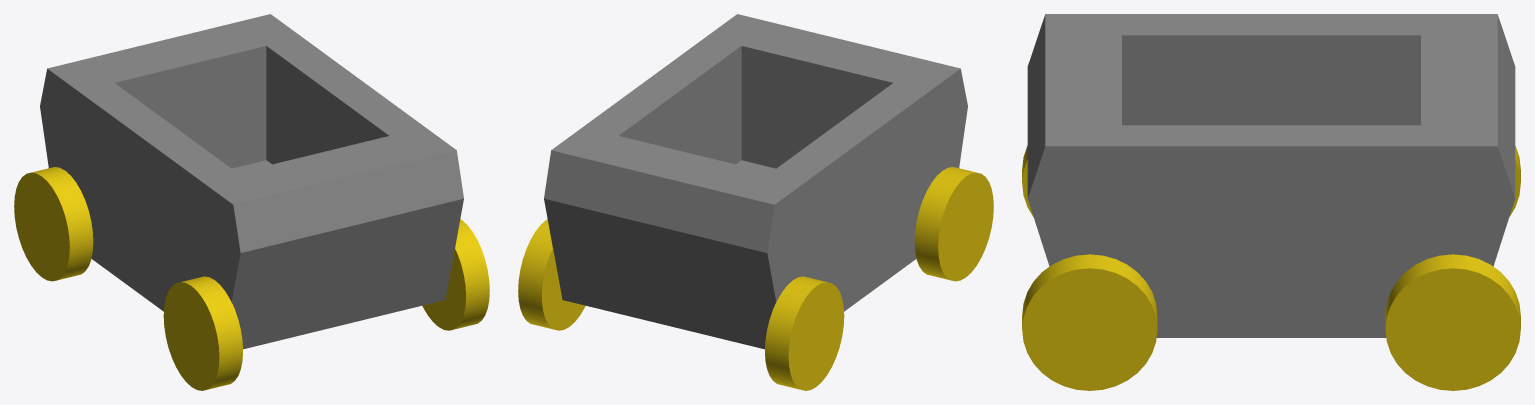
Rendered from Cart.fbx.
3 renders of one model, left to right at view 1: azimuth 30°, elevation 25°; view 2: azimuth 150°, elevation 25°; view 3: azimuth 270°, elevation 25°, orthographic. The views are drawn at different scales.
Visible parts, largest first — view 1: Cart; view 2: Cart; view 3: Cart.
Part boxes in pixels (left/top/right/bottom): Cart: left=14, top=14, right=489, bottom=390; Cart: left=518, top=14, right=993, bottom=390; Cart: left=1022, top=14, right=1520, bottom=390.
Bounding box in the file's own units: 433 × 290 × 569.
